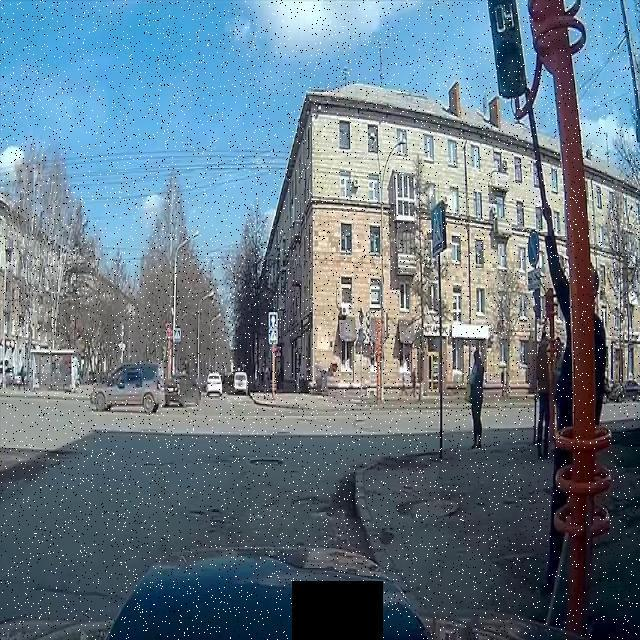normal: (83, 332, 217, 435)
